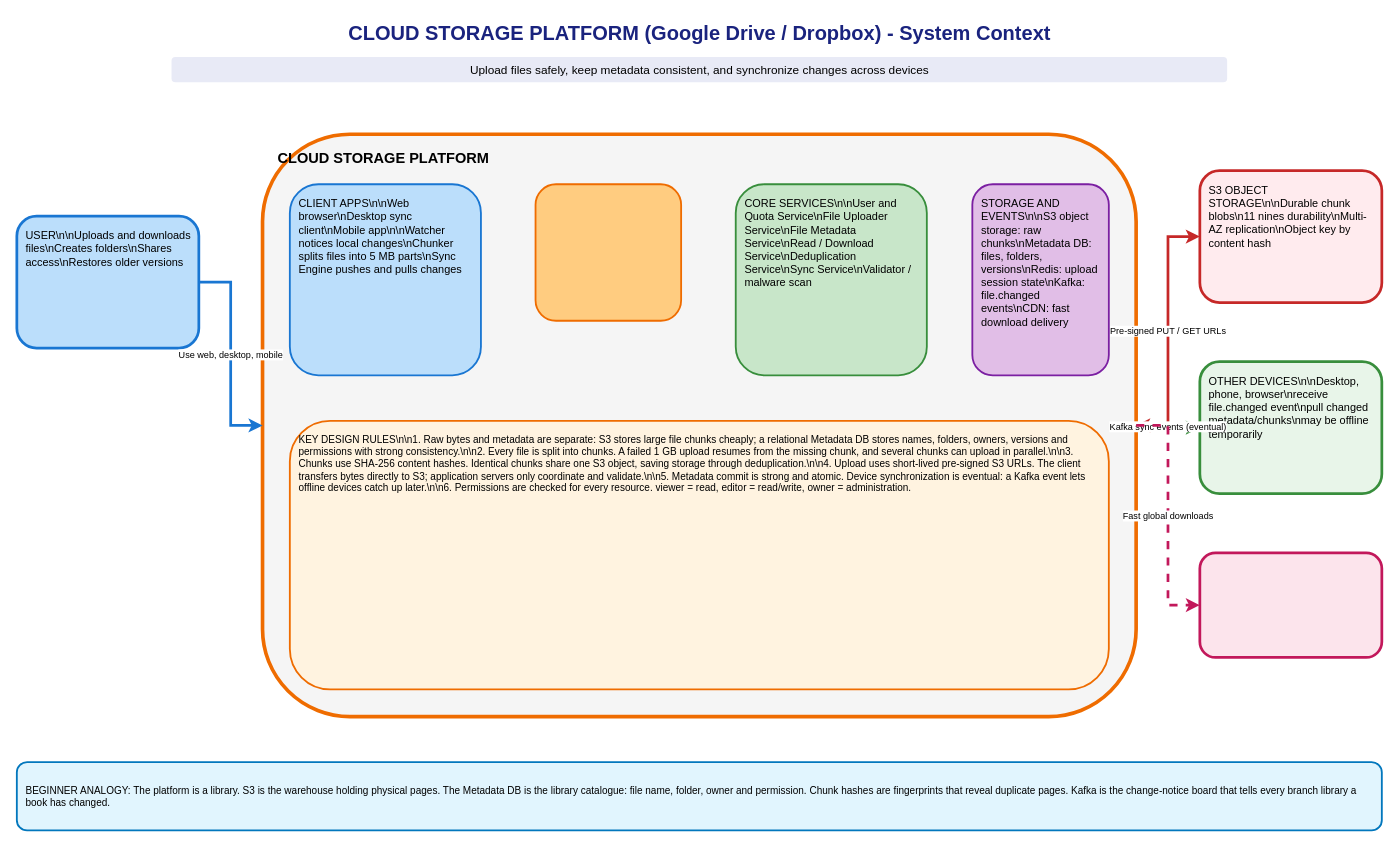
Some shapes in this 1399 by 846 pixel diagram are drawn without their labels. The centre of each missing label's shape, as x and y in pixels:
API GATEWAY\n\nAuthentication\nRate limiting\nRouting\nQuota checks: point (608, 252)
CDN\n\nCaches popular downloads\nserves nearby users\nreduces S3 bandwidth: point (1290, 604)
